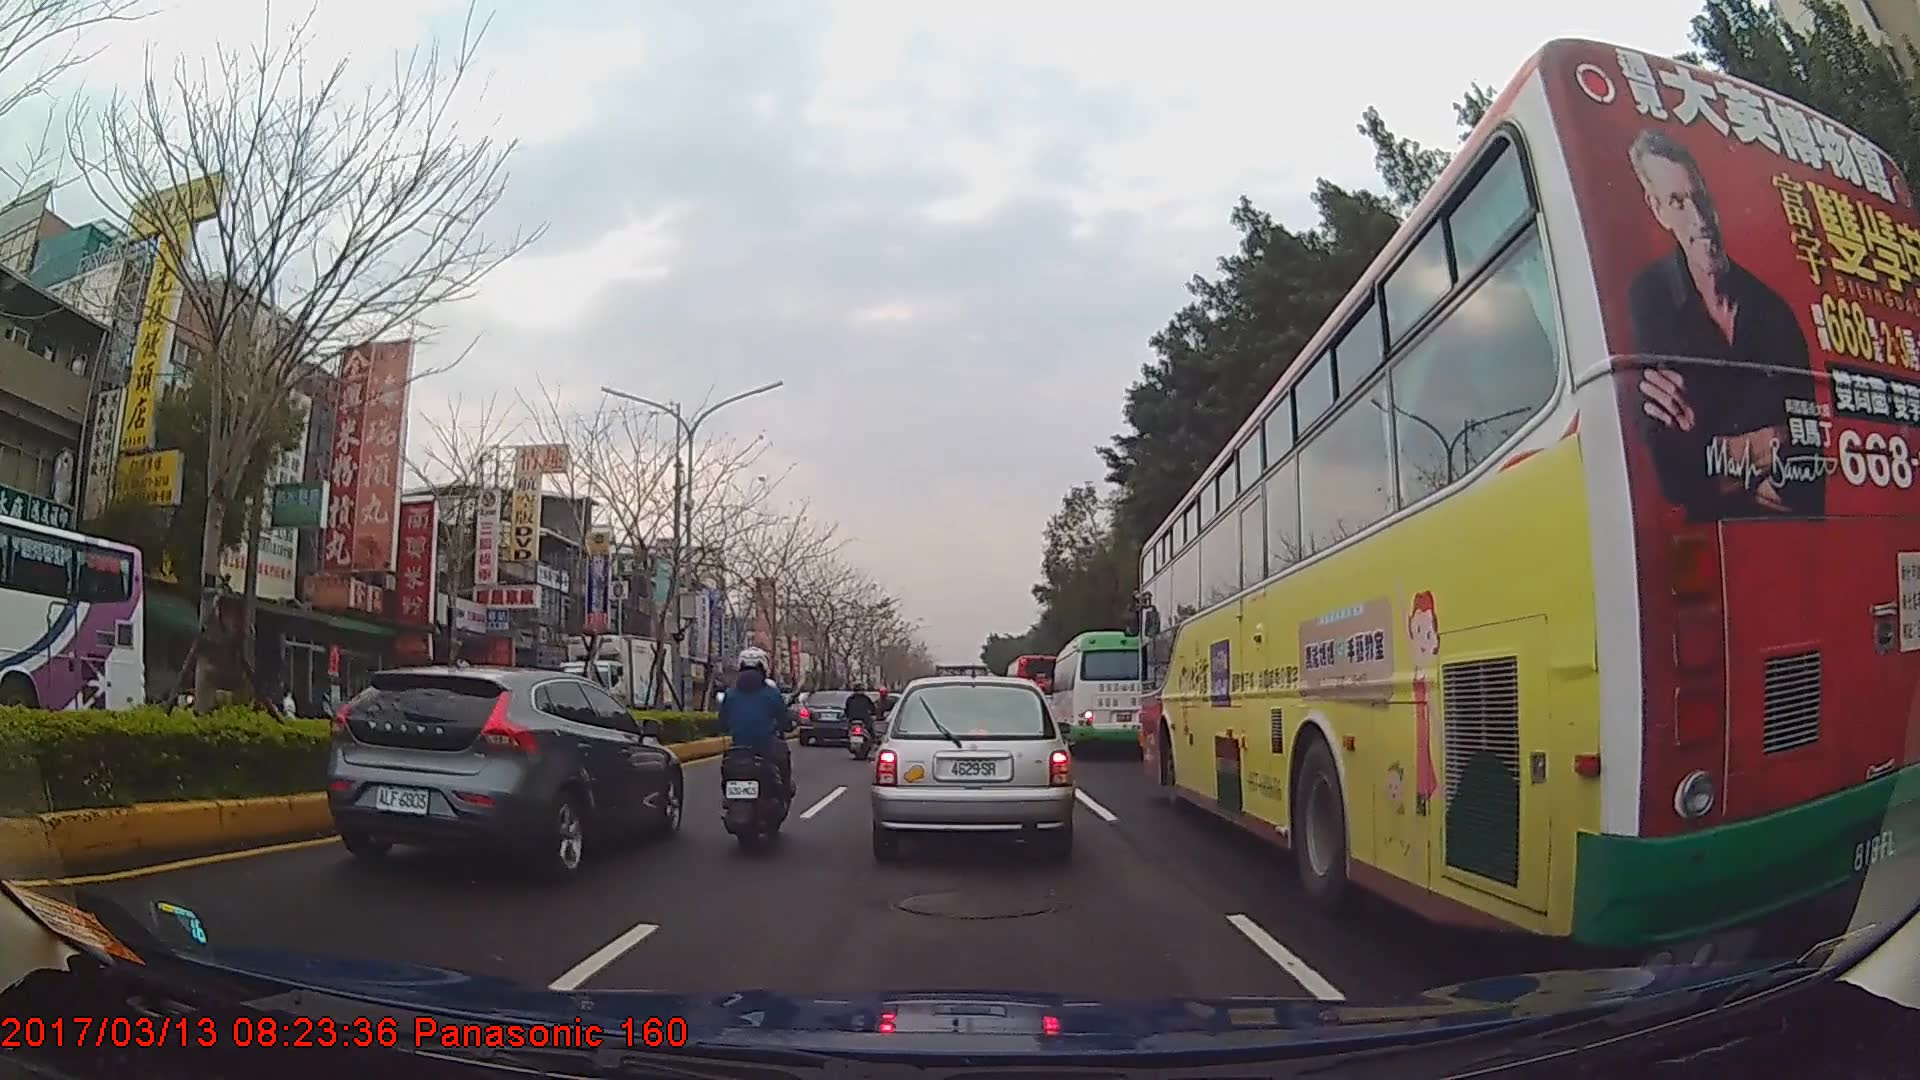rider: (717, 640, 799, 838), (747, 669, 787, 774), (844, 680, 880, 752), (873, 686, 897, 741)
vehicle: (1139, 31, 1920, 956), (328, 661, 684, 874), (873, 669, 1073, 852), (0, 514, 148, 745), (527, 621, 686, 753), (1050, 629, 1167, 756), (1003, 651, 1066, 725), (798, 687, 873, 744)
